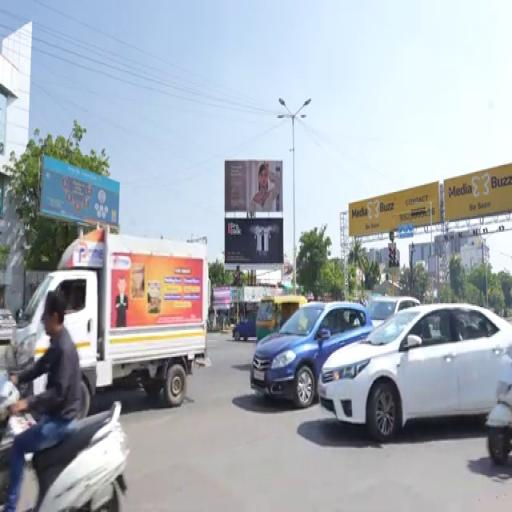Car: (319, 305, 511, 442), (250, 302, 373, 408), (368, 296, 419, 327), (233, 316, 256, 341)
